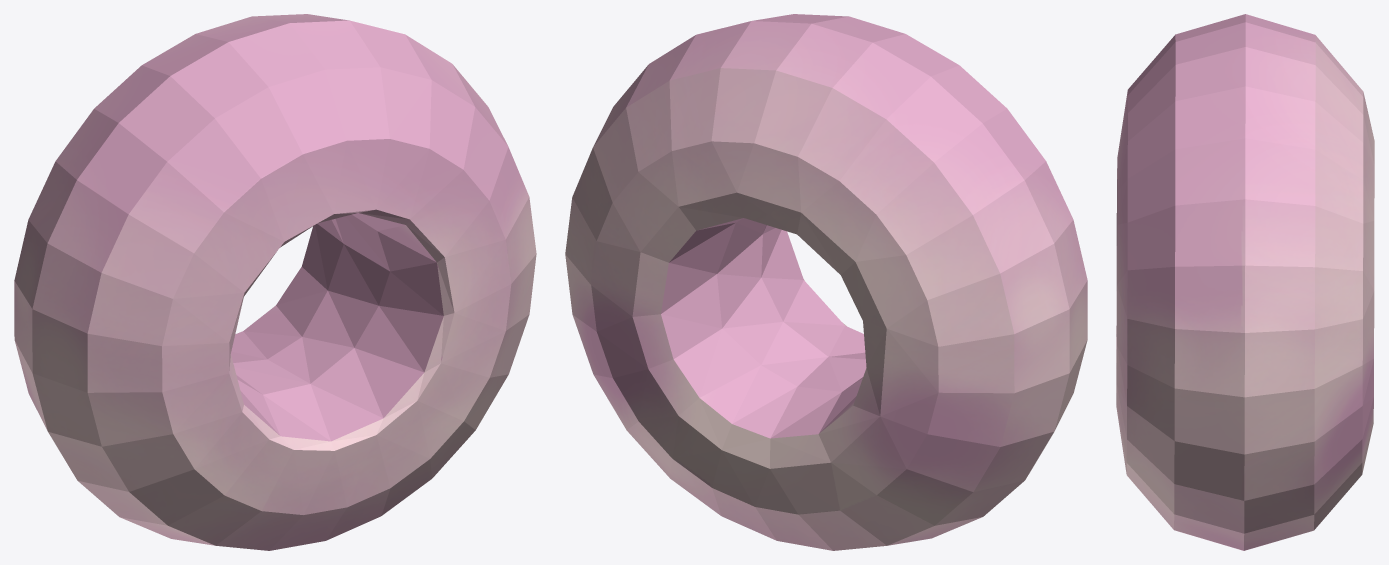
File: donat.dae
3 views of the same model, side by side, from view 1: azimuth 30°, elevation 25°; view 2: azimuth 150°, elevation 25°; view 3: azimuth 270°, elevation 25° (orthographic). The views are drawn at different scales.
Visible parts, largest first — view 1: Torus; view 2: Torus; view 3: Torus.
Boxes of the visible parts, left/top/right/bottom form: Torus: left=14, top=14, right=536, bottom=550; Torus: left=565, top=14, right=1087, bottom=550; Torus: left=1116, top=14, right=1374, bottom=550.
Bounding box in the file's own units: 1.68 × 0.8076 × 1.68.
Materials: 1 (1 with a texture image).
